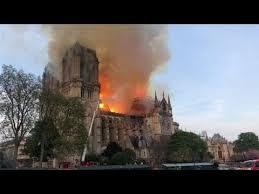fire: (97, 92, 122, 113)
